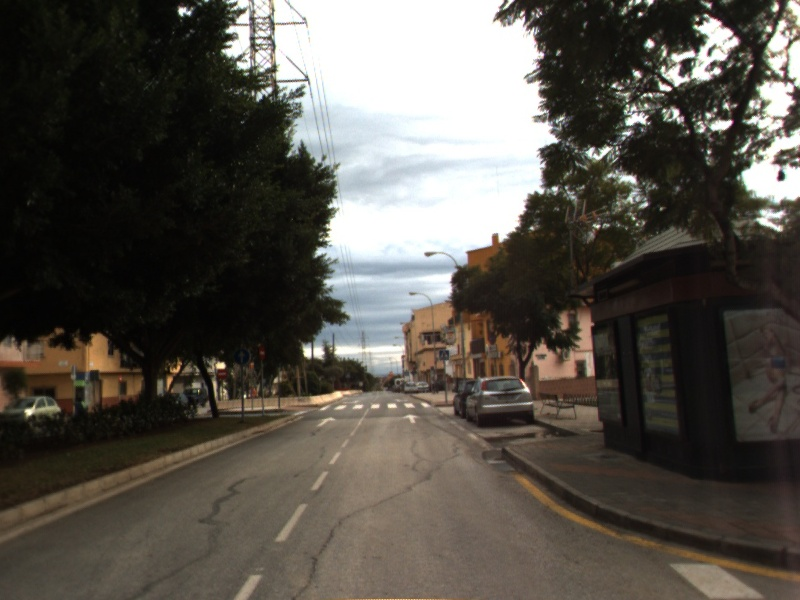STRAIGHT: (314, 415, 339, 429), (400, 412, 423, 425)
